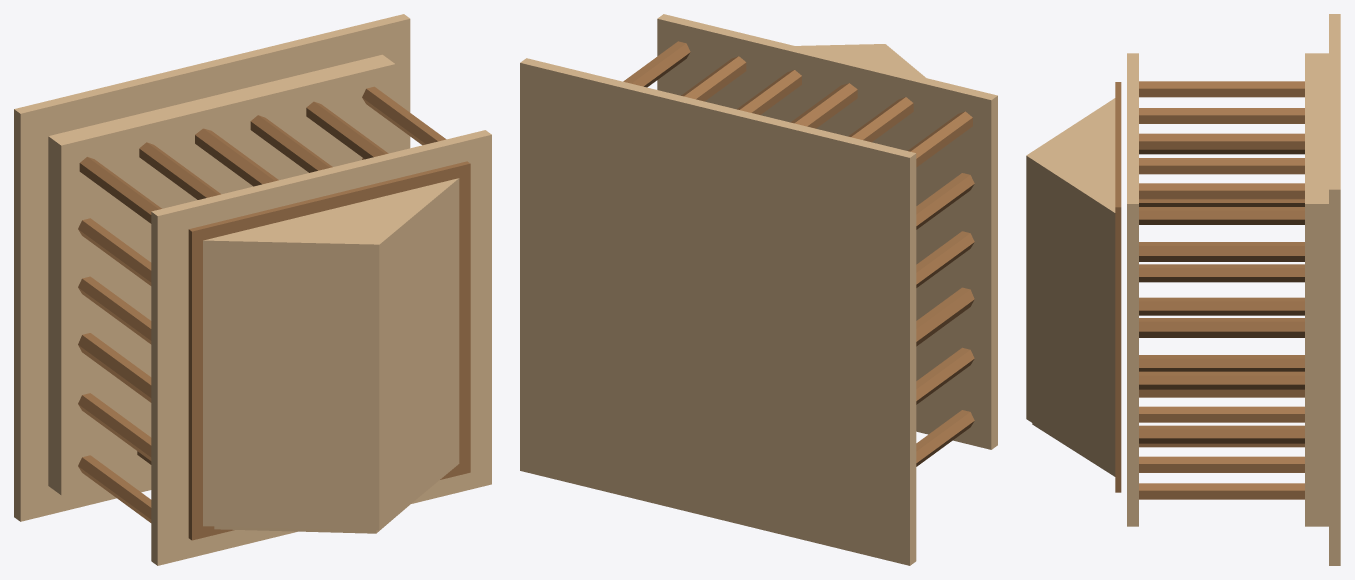
The model's file is tinker.obj.
3 views of the same model, side by side, from view 1: azimuth 30°, elevation 25°; view 2: azimuth 150°, elevation 25°; view 3: azimuth 270°, elevation 25° (orthographic). The views are drawn at different scales.
Visible parts, largest first — view 1: group_0_14860437, group_0_11107152; view 2: group_0_14860437, group_0_11107152; view 3: group_0_11107152, group_0_14860437.
Boxes of the visible parts, <box> form: group_0_14860437: <box>14,14,491,565</box>; group_0_11107152: <box>78,86,470,540</box>; group_0_14860437: <box>520,14,997,565</box>; group_0_11107152: <box>623,41,974,466</box>; group_0_11107152: <box>1115,81,1304,499</box>; group_0_14860437: <box>1026,14,1340,565</box>.
Bounding box in the file's own units: 70 × 70 × 53.
